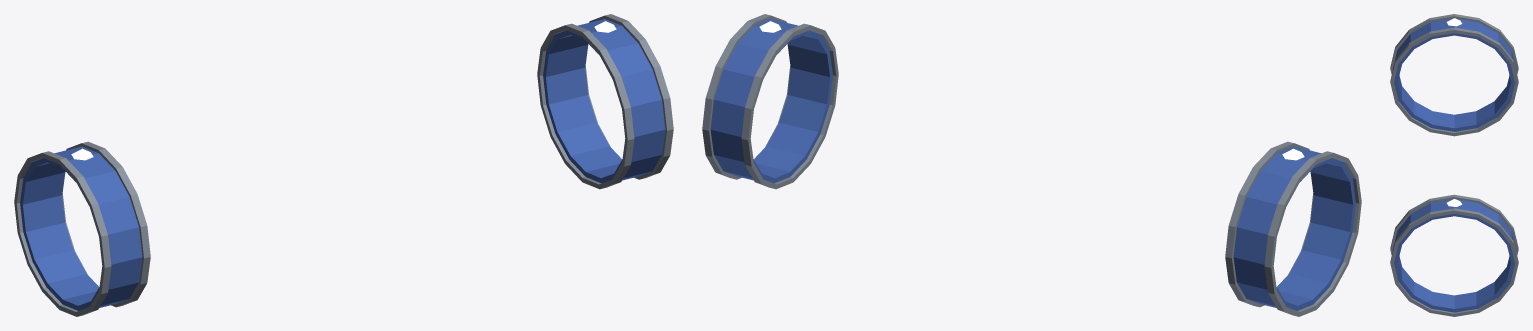
Rendered from armor_guard_arms_rare_orc.glb.
3 renders of one model, left to right at view 1: azimuth 30°, elevation 25°; view 2: azimuth 150°, elevation 25°; view 3: azimuth 270°, elevation 25°, orthographic. The views are drawn at different scales.
Visible parts, largest first — view 1: armor_guard_arms_rare_orc__lowerarm_l, armor_guard_arms_rare_orc__lowerarm_r; view 2: armor_guard_arms_rare_orc__lowerarm_l, armor_guard_arms_rare_orc__lowerarm_r; view 3: armor_guard_arms_rare_orc__lowerarm_l, armor_guard_arms_rare_orc__lowerarm_r.
Boxes of the visible parts, x1,y1,x2,y2 form: armor_guard_arms_rare_orc__lowerarm_l: (537, 14, 673, 189); armor_guard_arms_rare_orc__lowerarm_r: (14, 141, 150, 316); armor_guard_arms_rare_orc__lowerarm_l: (702, 14, 838, 189); armor_guard_arms_rare_orc__lowerarm_r: (1225, 141, 1361, 316); armor_guard_arms_rare_orc__lowerarm_l: (1390, 194, 1518, 316); armor_guard_arms_rare_orc__lowerarm_r: (1390, 14, 1518, 136).
Size of the model in its own units: 118 by 30.91 by 32.58.
